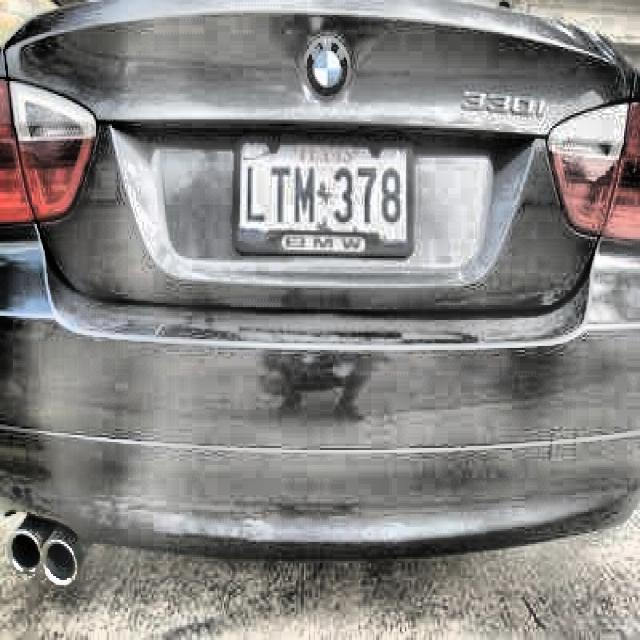license_plate: (236, 137, 414, 264)
